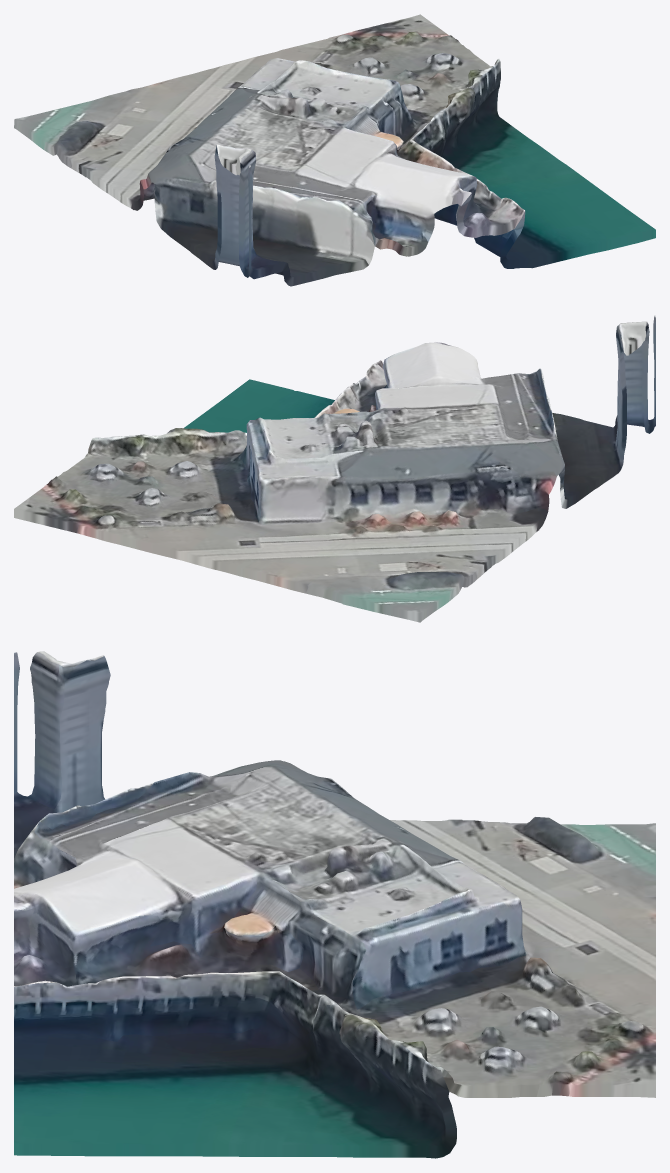
The model's file is z20-167769-405191-h0-yup-uvflip-v3-world.glb.
3 views of the same model, one above another, from view 1: azimuth 30°, elevation 25°; view 2: azimuth 150°, elevation 25°; view 3: azimuth 270°, elevation 25° (orthographic). The views are drawn at different scales.
Bounding box in the file's own units: 30.2 × 12.36 × 30.32.
Materials: 1 (1 with a texture image).
